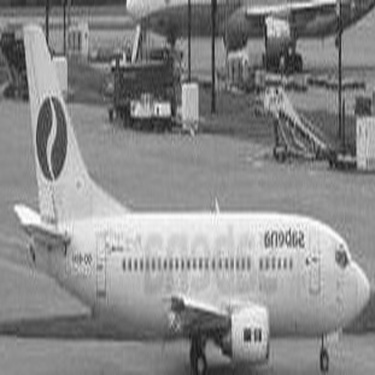airplane: (14, 13, 365, 360)
